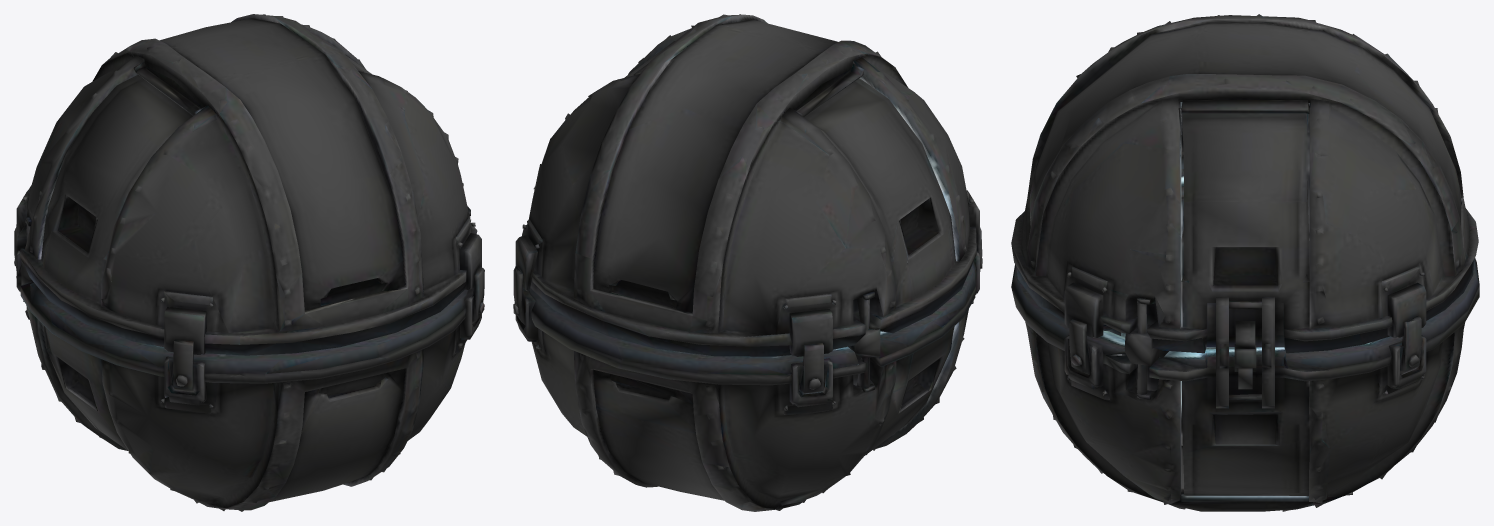
The model's file is lab-capsule.glb.
3 renders of one model, left to right at view 1: azimuth 30°, elevation 25°; view 2: azimuth 150°, elevation 25°; view 3: azimuth 270°, elevation 25°, orthographic. The views are drawn at different scales.
Parts seen in each view (by area): view 1: Blue Seam Capsule; view 2: Blue Seam Capsule; view 3: Blue Seam Capsule.
Part boxes in pixels (x1,y1,x2,y2): Blue Seam Capsule: (14,14,484,511); Blue Seam Capsule: (513,14,982,511); Blue Seam Capsule: (1011,14,1479,511).
Size of the model in its own units: 0.9629 by 0.998 by 0.9746.
1 material, 1 textured.
